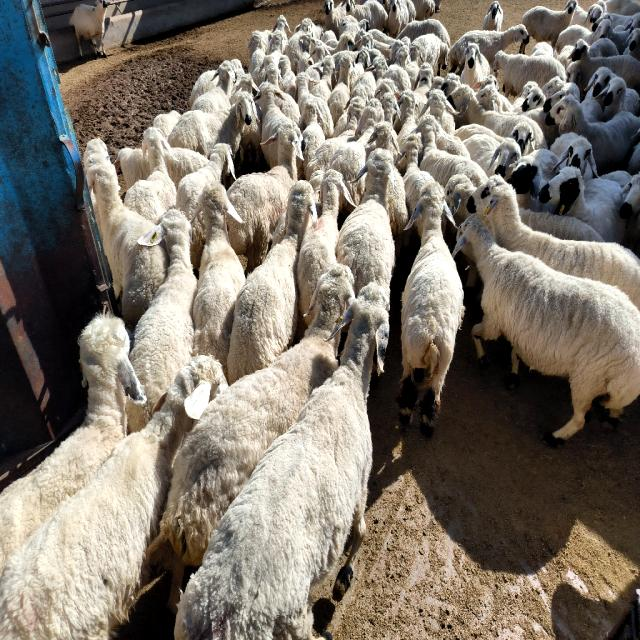sheep: (175, 285, 388, 638), (0, 355, 224, 638), (150, 263, 354, 567), (455, 217, 640, 444), (0, 313, 146, 574), (466, 175, 640, 309), (228, 180, 318, 382), (398, 182, 464, 434), (126, 210, 198, 432), (86, 140, 169, 327), (226, 122, 301, 271), (192, 183, 245, 372), (336, 148, 395, 295), (299, 170, 355, 315), (546, 95, 640, 174), (175, 145, 234, 270), (539, 167, 625, 242), (124, 128, 176, 224), (449, 83, 529, 137), (449, 23, 530, 72), (492, 50, 566, 97), (505, 148, 558, 212), (522, 0, 578, 46), (464, 133, 521, 177), (550, 133, 598, 182), (460, 43, 491, 90), (509, 118, 548, 155)
